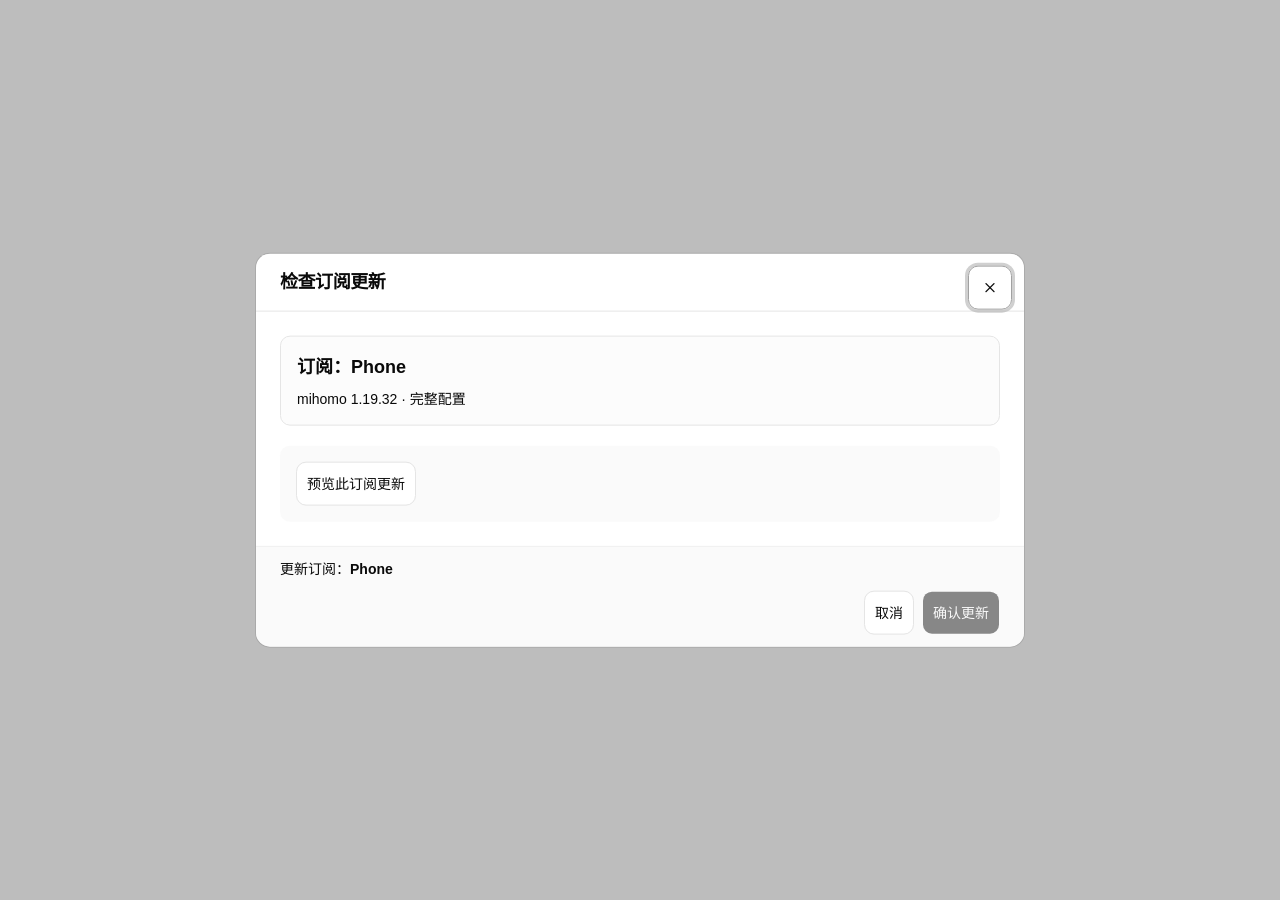
Scenario: keeps rule-only changes ahead of a compact unchanged group and connection summary
The image size is (1280, 900).
Step 1. Click the button "预览此订阅更新" → (356, 483), box [296,461,416,505]
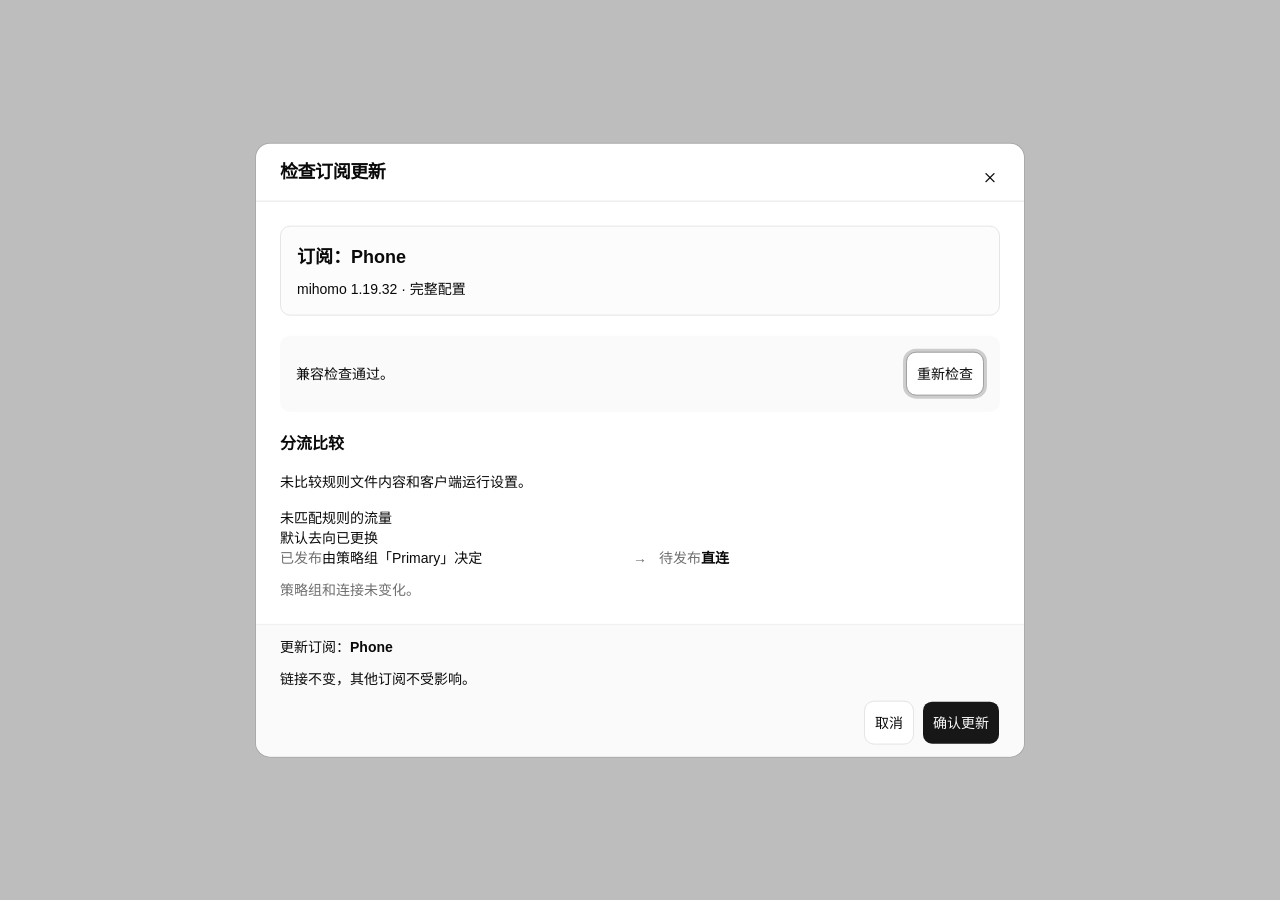
Now the text "兼容检查通过。" is shown, box [296,363,394,383]
Now the text "默认去向已更换" is shown, box [280,529,378,545]
